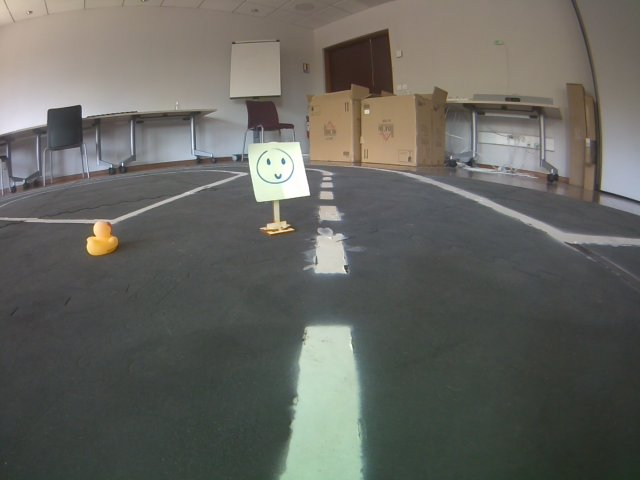Smiley: (244, 140, 311, 202)
